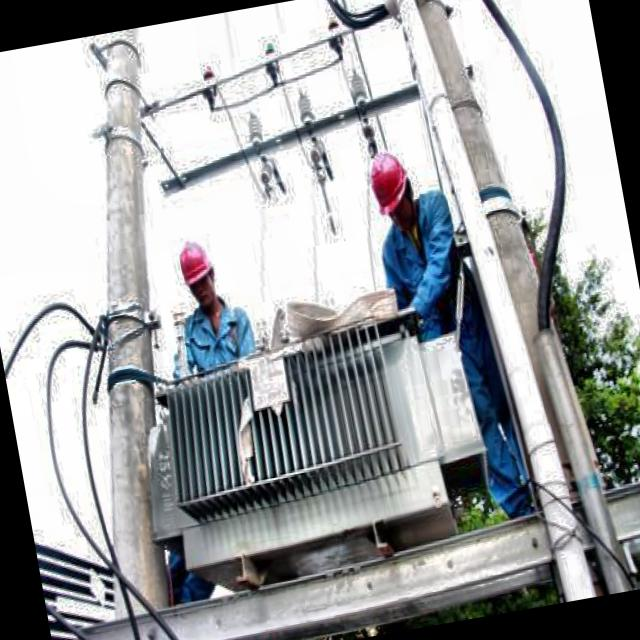helmet: (362, 140, 422, 235), (172, 230, 224, 316)
